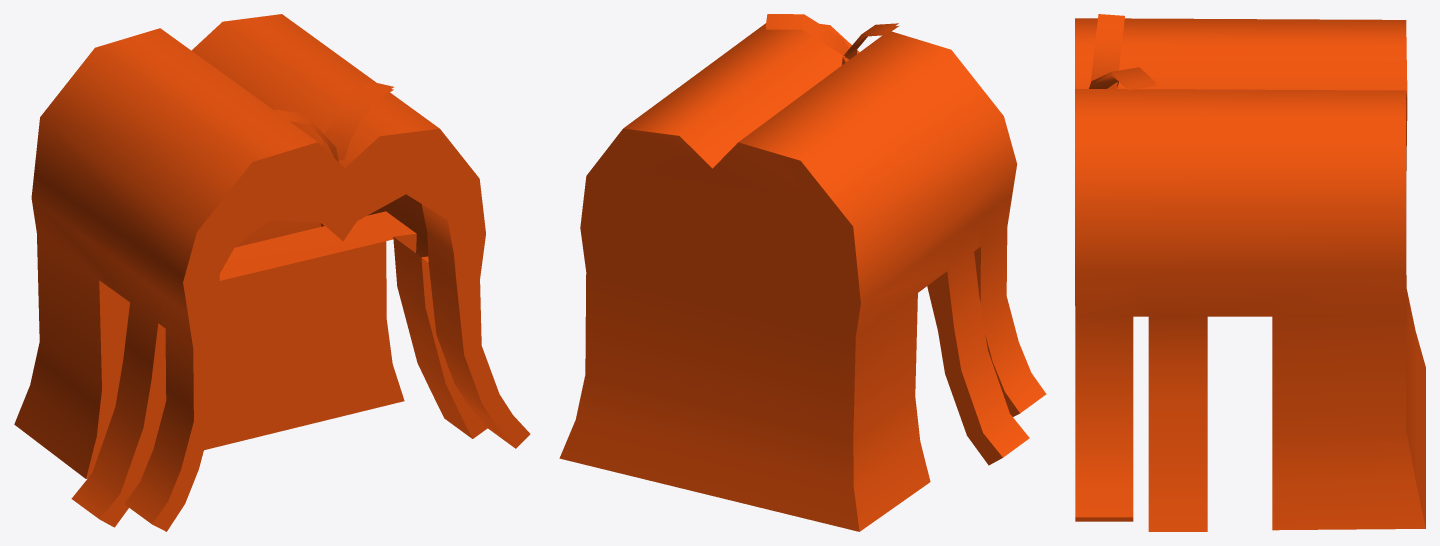
The model's file is Hair Female 06.FBX.
3 views of the same model, side by side, from view 1: azimuth 30°, elevation 25°; view 2: azimuth 150°, elevation 25°; view 3: azimuth 270°, elevation 25° (orthographic). The views are drawn at different scales.
Parts seen in each view (by area): view 1: Hair Female 06; view 2: Hair Female 06; view 3: Hair Female 06.
Part boxes in pixels (x1,y1,x2,y2): Hair Female 06: (14,14,530,531); Hair Female 06: (559,14,1046,531); Hair Female 06: (1075,14,1425,531).
Bounding box in the file's own units: 78.43 × 74.46 × 57.38.
1 material, 1 textured.
